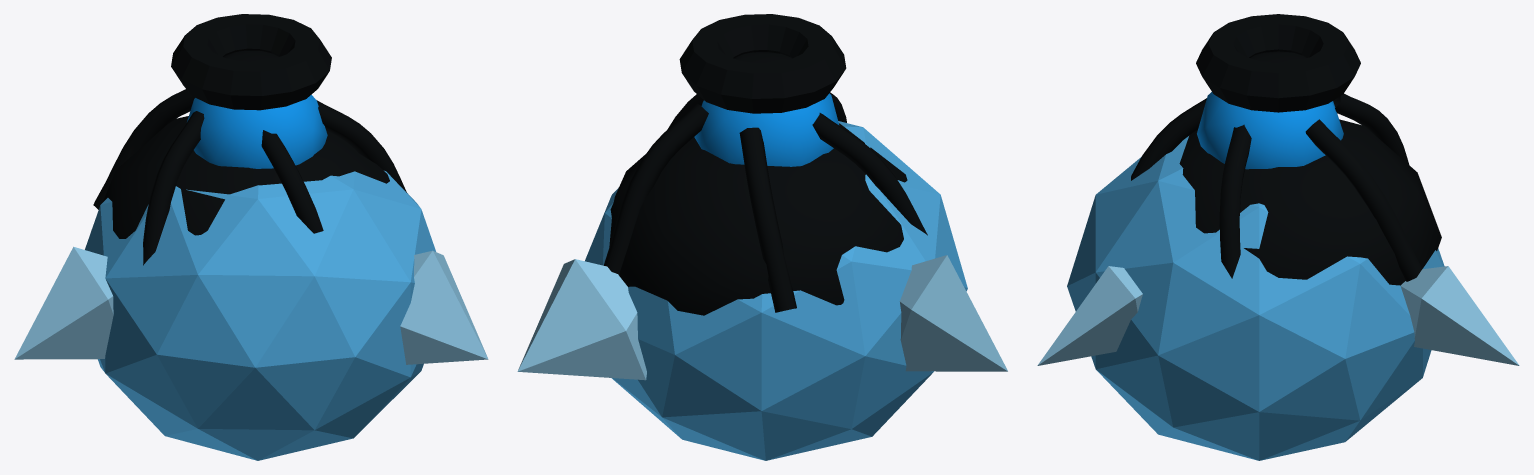
The model's file is PaintShooterEnemy.obj.
3 views of the same model, side by side, from view 1: azimuth 30°, elevation 25°; view 2: azimuth 150°, elevation 25°; view 3: azimuth 270°, elevation 25° (orthographic). The views are drawn at different scales.
Parts seen in each view (by area): view 1: PaintShooterEnemy; view 2: PaintShooterEnemy; view 3: PaintShooterEnemy.
Part boxes in pixels (x1=…): PaintShooterEnemy: x1=14, y1=14, x2=488, y2=460; PaintShooterEnemy: x1=517, y1=14, x2=1007, y2=460; PaintShooterEnemy: x1=1037, y1=14, x2=1519, y2=460.
Size of the model in its own units: 2.4 by 2.29 by 2.51.
